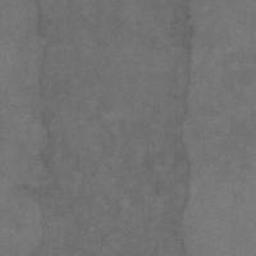Water spot: (28, 0, 195, 256)
